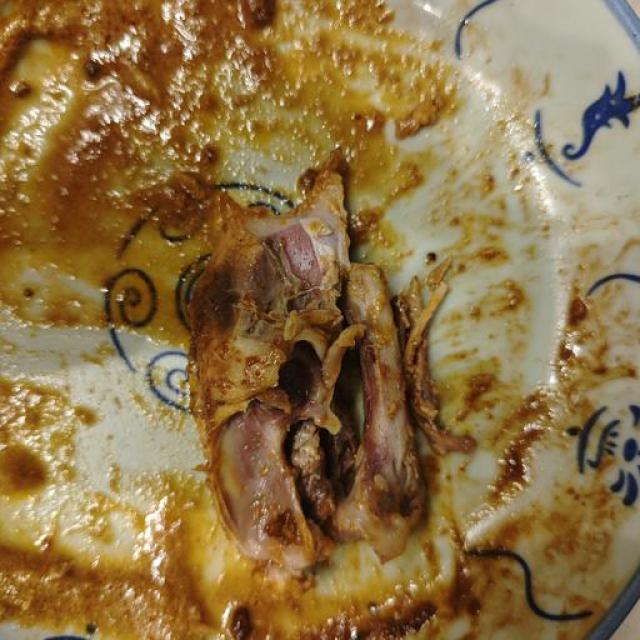organic: (170, 89, 462, 640)
